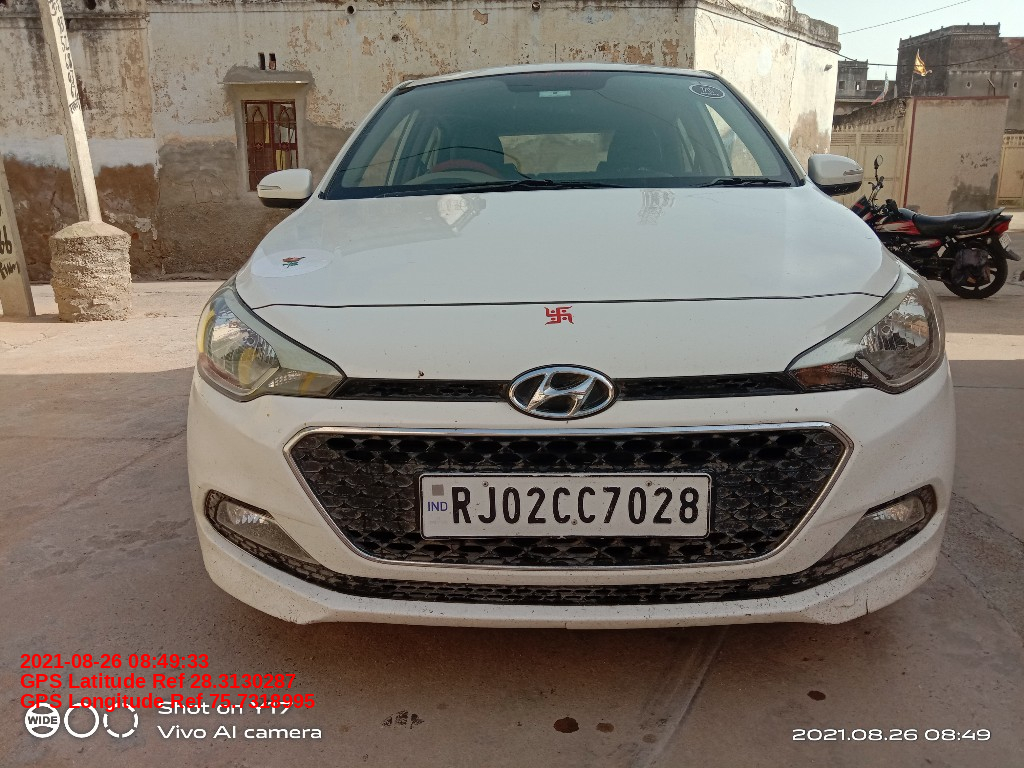Cracked: (833, 591, 862, 612), (861, 589, 877, 619), (557, 617, 584, 631)
Scratched: (412, 365, 427, 380), (741, 609, 757, 620)
